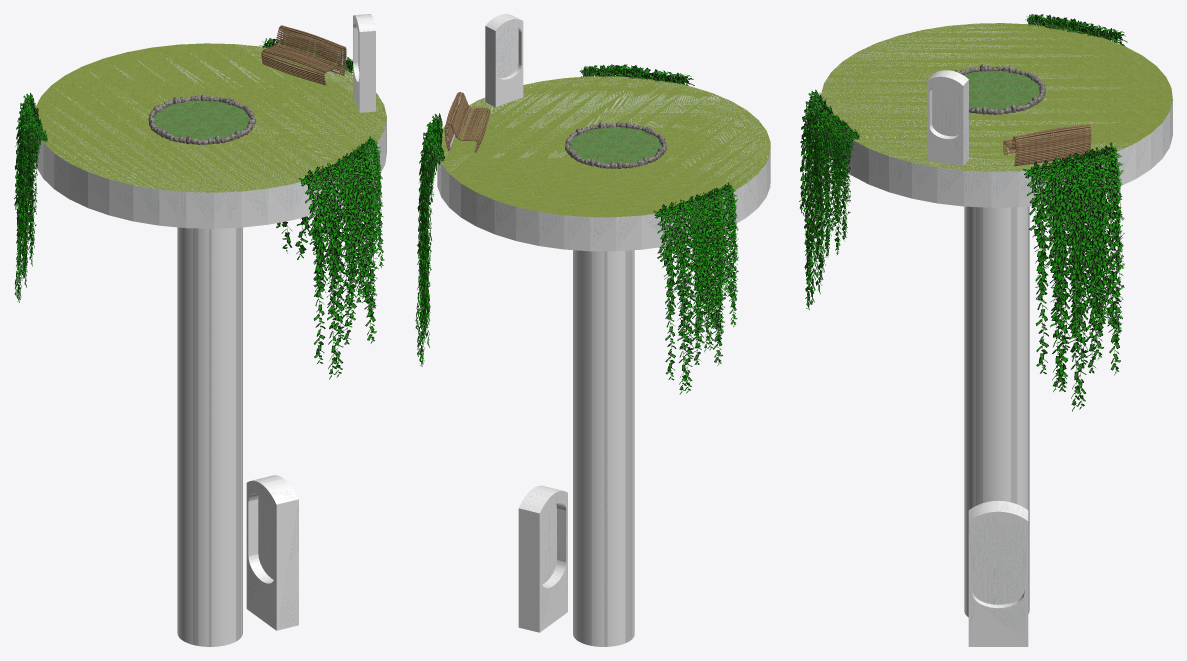
The model's file is aereo2.glb.
3 views of the same model, side by side, from view 1: azimuth 30°, elevation 25°; view 2: azimuth 150°, elevation 25°; view 3: azimuth 270°, elevation 25° (orthographic). The views are drawn at different scales.
Parts seen in each view (by area): view 1: SketchUp.015, SketchUp.19270, SketchUp, SketchUp.19268, SketchUp.019, SketchUp.080, SketchUp.12639, SketchUp.081; view 2: SketchUp.015, SketchUp.19270, SketchUp, SketchUp.19268, SketchUp.080, SketchUp.12639, SketchUp.019, SketchUp.081; view 3: SketchUp.015, SketchUp.19270, SketchUp, SketchUp.19268, SketchUp.12639, SketchUp.019, SketchUp.080, SketchUp.081.
Boxes of the visible parts, x1=… form: SketchUp.015: x1=34, y1=14, x2=386, y2=646; SketchUp.19270: x1=35, y1=43, x2=386, y2=192; SketchUp: x1=14, y1=38, x2=384, y2=379; SketchUp.19268: x1=178, y1=227, x2=242, y2=646; SketchUp.019: x1=261, y1=25, x2=346, y2=85; SketchUp.080: x1=153, y1=100, x2=250, y2=141; SketchUp.12639: x1=16, y1=44, x2=381, y2=375; SketchUp.081: x1=148, y1=94, x2=255, y2=144; SketchUp.015: x1=437, y1=14, x2=770, y2=646; SketchUp.19270: x1=440, y1=76, x2=770, y2=217; SketchUp: x1=415, y1=64, x2=738, y2=394; SketchUp.19268: x1=573, y1=250, x2=632, y2=646; SketchUp.080: x1=569, y1=127, x2=661, y2=163; SketchUp.12639: x1=417, y1=69, x2=736, y2=391; SketchUp.019: x1=444, y1=92, x2=490, y2=152; SketchUp.081: x1=565, y1=121, x2=666, y2=168; SketchUp.015: x1=829, y1=70, x2=1172, y2=646; SketchUp.19270: x1=821, y1=23, x2=1172, y2=171; SketchUp: x1=799, y1=14, x2=1127, y2=411; SketchUp.19268: x1=966, y1=206, x2=1029, y2=616; SketchUp.12639: x1=801, y1=18, x2=1122, y2=407; SketchUp.019: x1=1003, y1=124, x2=1091, y2=165; SketchUp.080: x1=964, y1=70, x2=1039, y2=109; SketchUp.081: x1=955, y1=64, x2=1045, y2=114.
Size of the model in its own units: 8.84 by 15.21 by 8.59.
12 materials, 7 textured.
